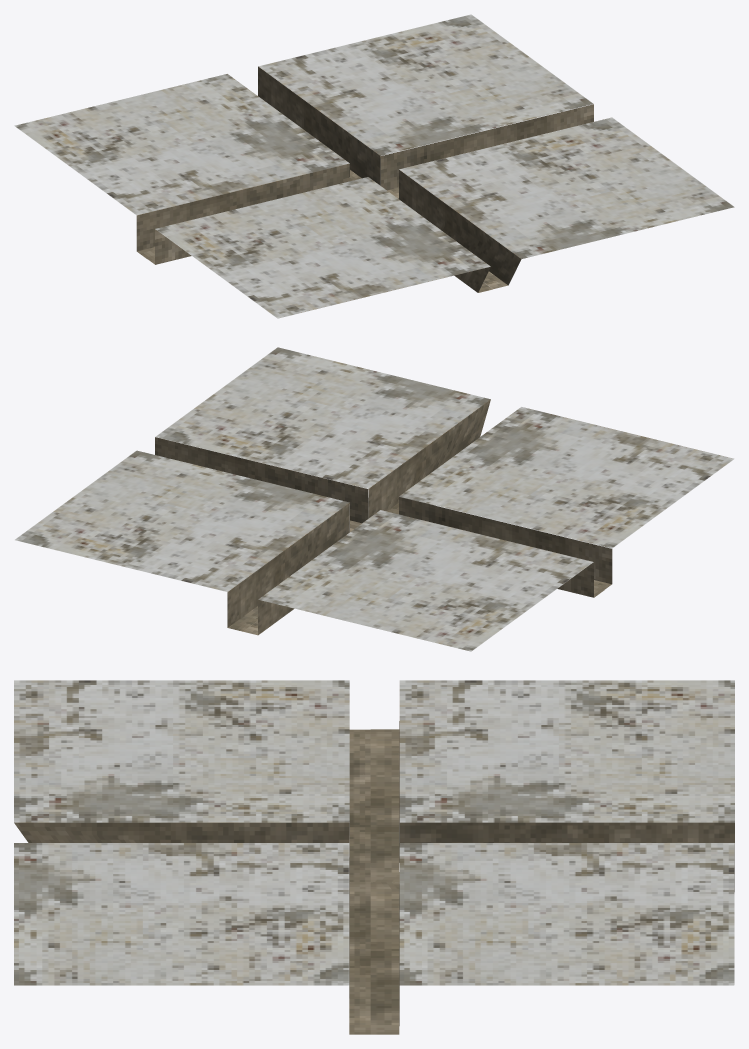
Rendered from roofpiece.fbx.
3 views of the same model, one above another, from view 1: azimuth 30°, elevation 25°; view 2: azimuth 150°, elevation 25°; view 3: azimuth 270°, elevation 25° (orthographic). The views are drawn at different scales.
Parts seen in each view (by area): view 1: RoofPiece; view 2: RoofPiece; view 3: RoofPiece.
Part boxes in pixels (x1,y1,x2,y2): RoofPiece: [14, 14, 734, 318]; RoofPiece: [15, 347, 734, 651]; RoofPiece: [14, 680, 734, 1034].
Bounding box in the file's own units: 200 × 15 × 200.
